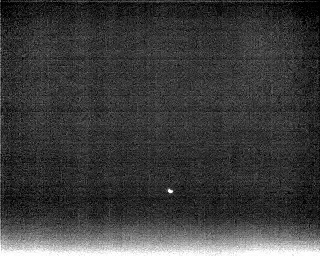BIRD: (165, 185, 176, 198)
